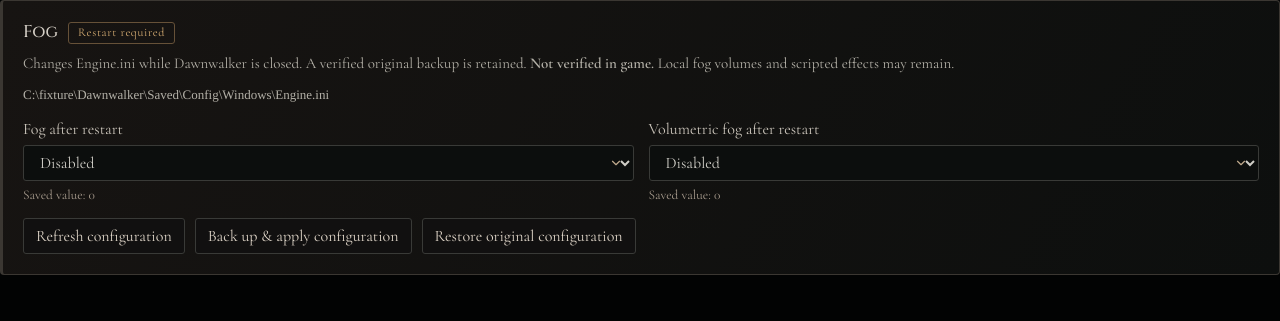
Test case: fog configuration controls › keeps the owned saved values when restoration is rejected
Click the button "Restore original configuration".
click(529, 236)  # box [422,218,636,254]
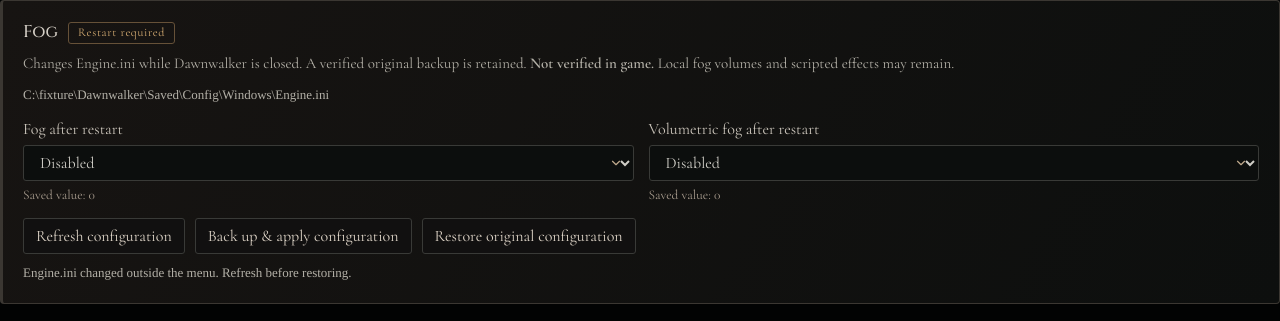
Check: the dropdown labelled "Fog after restart Saved value: 0" shows "Disabled", box [23,145,634,181]
Check: the message shows "Engine.ini changed outside the menu", box [23,265,352,280]
